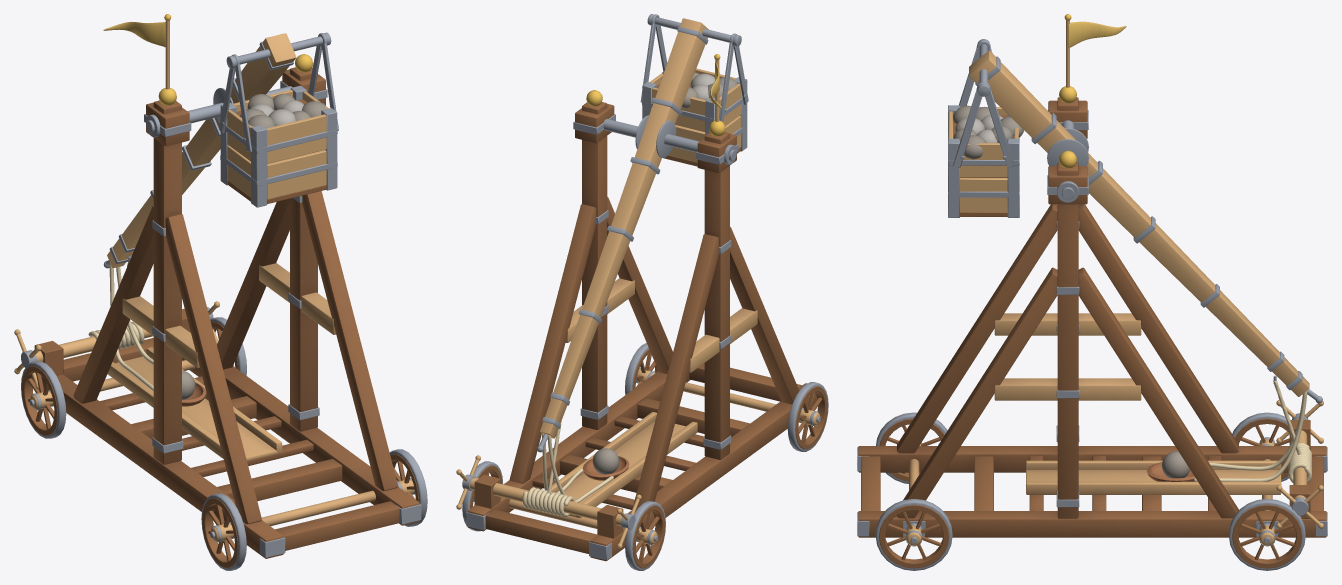
3 renders of one model, left to right at view 1: azimuth 30°, elevation 25°; view 2: azimuth 150°, elevation 25°; view 3: azimuth 270°, elevation 25°, orthographic. The views are drawn at different scales.
Parts seen in each view (by area): view 1: trebuchet_body, trebuchet_counterweight, trebuchet_fittings, trebuchet_arm, trebuchet_wheel_front_left, trebuchet_wheel_rear_left, trebuchet_sling, trebuchet_wheel_front_right; view 2: trebuchet_body, trebuchet_arm, trebuchet_fittings, trebuchet_counterweight, trebuchet_wheel_front_left, trebuchet_wheel_rear_left, trebuchet_sling, trebuchet_wheel_front_right, trebuchet_wheel_rear_right; view 3: trebuchet_body, trebuchet_arm, trebuchet_counterweight, trebuchet_fittings, trebuchet_wheel_front_right, trebuchet_wheel_rear_right, trebuchet_sling, trebuchet_wheel_rear_left, trebuchet_wheel_front_left.
Part boxes in pixels (box(x1,y1,x2,y2)): trebuchet_body: box(33, 67, 419, 558); trebuchet_counterweight: box(219, 33, 338, 207); trebuchet_fittings: box(14, 14, 421, 557); trebuchet_arm: box(103, 32, 331, 268); trebuchet_wheel_front_left: box(201, 493, 246, 570); trebuchet_wheel_rear_left: box(21, 361, 66, 438); trebuchet_sling: box(109, 261, 206, 406); trebuchet_wheel_front_right: box(389, 449, 427, 526); trebuchet_body: box(467, 102, 816, 561); trebuchet_arm: box(537, 14, 741, 452); trebuchet_fittings: box(456, 54, 817, 560); trebuchet_counterweight: box(640, 14, 748, 166); trebuchet_wheel_front_left: box(787, 382, 828, 451); trebuchet_wheel_rear_left: box(625, 501, 665, 570); trebuchet_sling: box(542, 433, 629, 502); trebuchet_wheel_front_right: box(625, 343, 658, 394); trebuchet_wheel_rear_right: box(462, 461, 502, 531); trebuchet_body: box(858, 97, 1326, 537); trebuchet_arm: box(969, 39, 1322, 403); trebuchet_counterweight: box(948, 40, 1023, 217); trebuchet_fittings: box(857, 14, 1327, 536); trebuchet_wheel_front_right: box(875, 499, 952, 570); trebuchet_wheel_rear_right: box(1229, 498, 1305, 570); trebuchet_sling: box(1147, 390, 1307, 481); trebuchet_wheel_rear_left: box(1232, 412, 1289, 481); trebuchet_wheel_front_left: box(876, 412, 947, 483).
Size of the model in its own units: 3.33 by 7.57 by 6.72.
10 materials, 1 textured.
